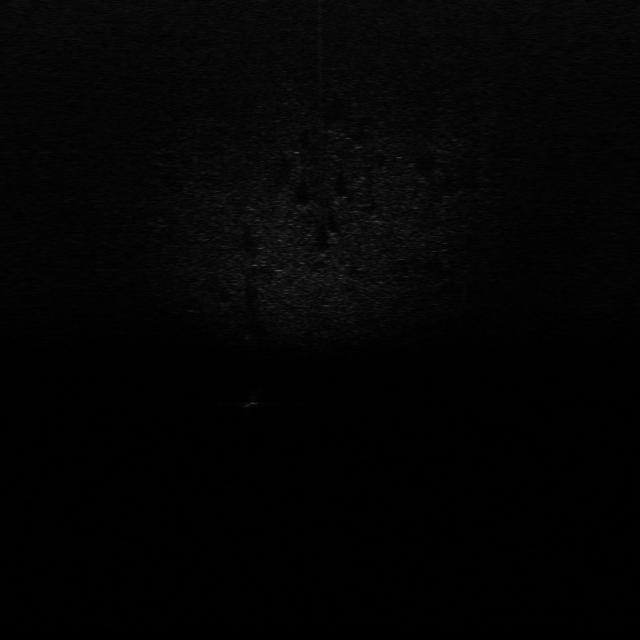human body: (240, 380, 268, 420)
